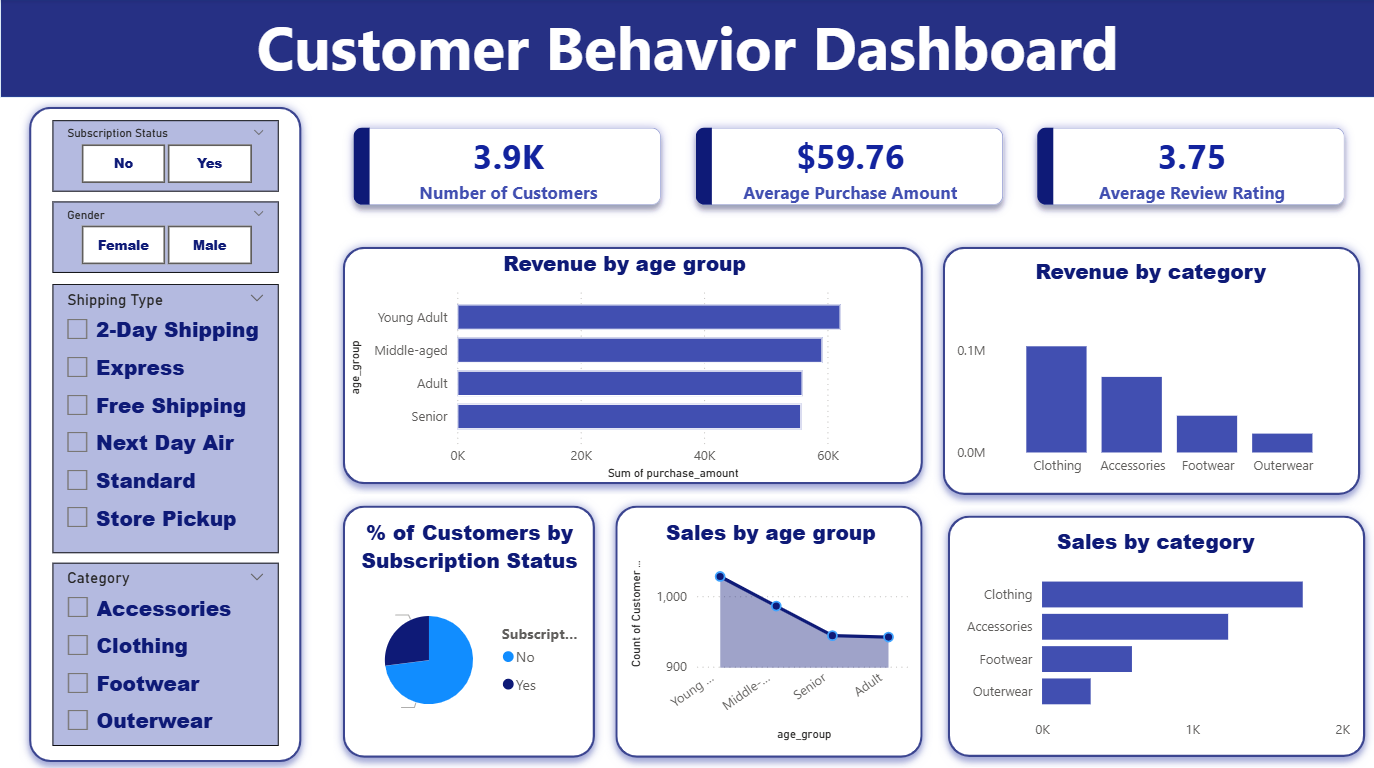

The dashboard page shown, as its layout file describes it:
{"tool":"powerbi","page":{"name":"Page 1","canvas":[1280,720],"ordinal":0},"visuals":[{"type":"shape","box":[562.5,461.2,305,253.8],"z":0},{"type":"shape","box":[308.8,221.2,558.8,240],"z":1000},{"type":"shape","box":[308.8,461.2,253.8,253.8],"z":2000},{"type":"shape","box":[872.5,471.2,407.5,243.8],"z":3000},{"type":"cardVisual","fields":{"Data":["public customer.Number of Customers","public customer.Average Purchase Amount","public customer.Average Review Rating"]},"box":[300,91.2,980,130],"z":4000},{"type":"shape","box":[0,0,1280,92],"z":5000},{"type":"textbox","box":[0,0,1280,92],"z":6000},{"type":"shape","box":[867.5,221.2,407.5,250],"z":7000},{"type":"pieChart","title":"% of Customers by Subscription Status","fields":{"Category":["public customer.Subscription Status"],"Y":["CountNonNull(public customer.Customer ID)"]},"box":[326.2,482.5,220,212.5],"z":8000},{"type":"clusteredColumnChart","title":"Revenue by category","fields":{"Y":["Sum(public customer.purchase_amount)"],"Category":["public customer.Category"]},"box":[885,240,371.2,212.5],"z":9000},{"type":"clusteredBarChart","title":"Sales by category","fields":{"Category":["public customer.Category"],"Y":["CountNonNull(public customer.Customer ID)"]},"box":[890,491.2,371.2,207.5],"z":10000},{"type":"shape","box":[17.5,91.2,272.5,628.8],"z":11000},{"type":"slicer","fields":{"Values":["public customer.Subscription Status"]},"box":[48.8,112.5,210,66.2],"z":12000},{"type":"slicer","fields":{"Values":["public customer.Shipping Type"]},"box":[48.8,265,210,250],"z":13000},{"type":"slicer","fields":{"Values":["public customer.Category"]},"box":[48.8,525,210,170],"z":14000},{"type":"slicer","fields":{"Values":["public customer.Gender"]},"box":[48.8,188.8,210,66.2],"z":15000},{"type":"clusteredBarChart","title":"Revenue by age group","fields":{"Category":["public customer.age_group"],"Y":["Sum(public customer.purchase_amount)"]},"box":[320,232.5,522.5,220],"z":16000},{"type":"stackedAreaChart","title":"Sales by age group","fields":{"Category":["public customer.age_group"],"Y":["CountNonNull(public customer.Customer ID)"]},"box":[581.2,482.5,271.2,212.5],"z":17000}]}

Visuals, with their boxes in screenshot pixels (x1, y1, x2, y2), scaled from the page's 1280x720 canvas onto the 1374x768 screenshot:
shape: bbox=[604, 492, 931, 763]
shape: bbox=[331, 236, 931, 492]
shape: bbox=[331, 492, 604, 763]
shape: bbox=[937, 503, 1373, 763]
cardVisual - public customer.Number of Customers x public customer.Average Purchase Amount: bbox=[322, 97, 1373, 236]
shape: bbox=[0, 0, 1373, 98]
textbox: bbox=[0, 0, 1373, 98]
shape: bbox=[931, 236, 1369, 503]
"% of Customers by Subscription Status" pieChart: bbox=[350, 515, 586, 741]
"Revenue by category" clusteredColumnChart: bbox=[950, 256, 1348, 483]
"Sales by category" clusteredBarChart: bbox=[955, 524, 1354, 745]
shape: bbox=[19, 97, 311, 767]
slicer - public customer.Subscription Status: bbox=[52, 120, 278, 191]
slicer - public customer.Shipping Type: bbox=[52, 283, 278, 549]
slicer - public customer.Category: bbox=[52, 560, 278, 741]
slicer - public customer.Gender: bbox=[52, 201, 278, 272]
"Revenue by age group" clusteredBarChart: bbox=[344, 248, 904, 483]
"Sales by age group" stackedAreaChart: bbox=[624, 515, 915, 741]
